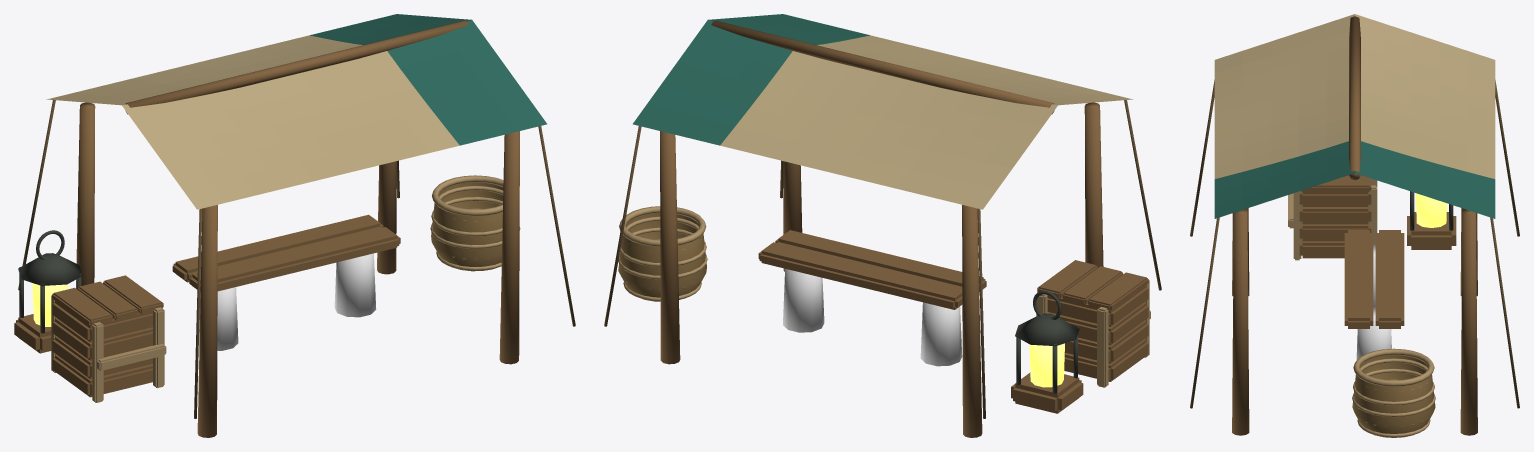
File: SM_DF_AwningSet.fbx
3 renders of one model, left to right at view 1: azimuth 30°, elevation 25°; view 2: azimuth 150°, elevation 25°; view 3: azimuth 270°, elevation 25°, orthographic. The views are drawn at different scales.
Visible parts, largest first — view 1: SM_DF_AwningSet; view 2: SM_DF_AwningSet; view 3: SM_DF_AwningSet.
Part boxes in pixels (x1=…): SM_DF_AwningSet: x1=14, y1=14, x2=575, y2=437; SM_DF_AwningSet: x1=604, y1=14, x2=1161, y2=437; SM_DF_AwningSet: x1=1190, y1=14, x2=1519, y2=437.
Size of the model in its own units: 394 by 254 by 230.
